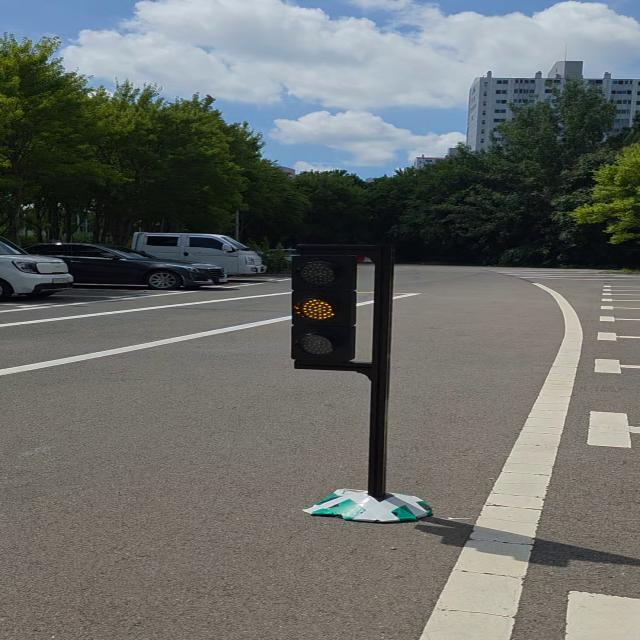yellow: (278, 248, 366, 372)
